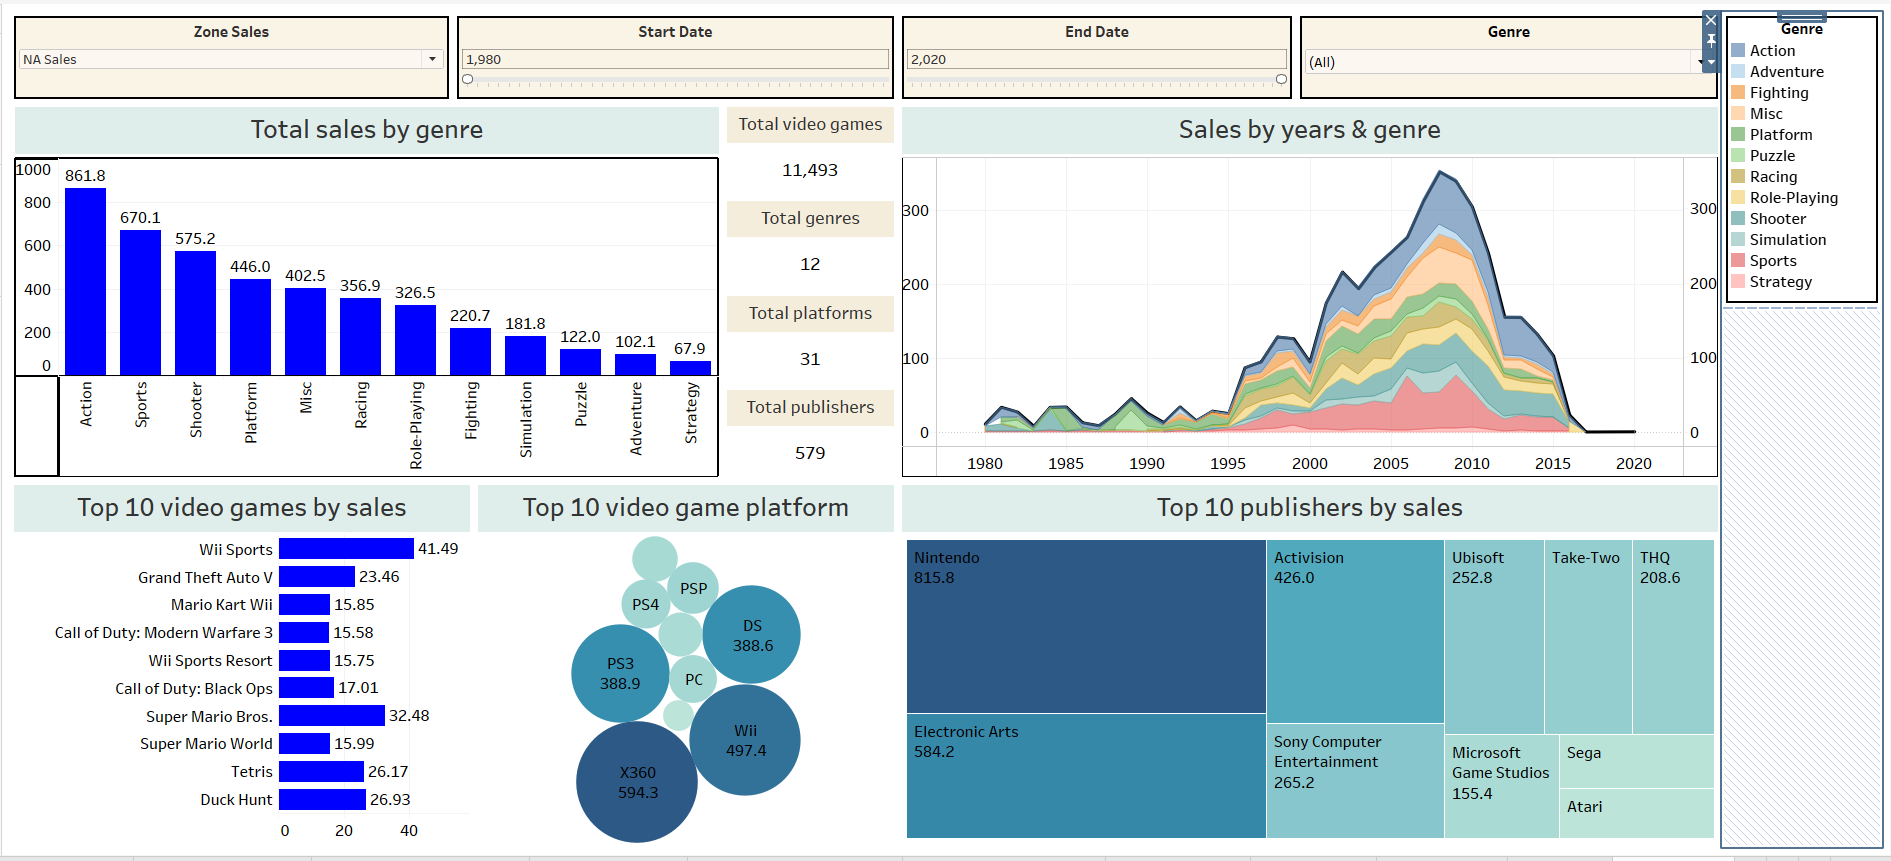

The dashboard page shown, as its layout file describes it:
{"tool":"tableau","page":{"name":"Dashboard 1","canvas":[1000,1000],"units":"permille","ordinal":0},"visuals":[{"type":"parameter","param":"[Parameters].[Parameter 1]","box":[4.2,9.4,234.6,106.9]},{"type":"parameter","param":"[Parameters].[Parameter 2]","box":[238.9,9.4,235.7,106.9]},{"type":"parameter","param":"[Parameters].[Parameter 3]","box":[474.6,9.4,210.8,106.9]},{"type":"filter","title":"Sales by years & genre","param":"[federated.0zwhqo115u1nlq1er0fge0xm58so].[none:Genre:nk]","box":[685.4,9.4,225.6,106.9]},{"type":"legend","title":"Sales by years & genre","param":"[federated.0zwhqo115u1nlq1er0fge0xm58so].[none:Genre:nk]","box":[911,9.4,84.8,346.7]},{"type":"worksheet","title":"Total sales by genre","mark":"Automatic","rows":["Calculation_1118581590532210689"],"cols":["Genre"],"box":[4.2,116.3,377.7,444.2]},{"type":"worksheet","title":"Total video games","mark":"Automatic","box":[381.9,116.3,92.7,111]},{"type":"worksheet","title":"Sales by years & genre","mark":"Automatic","rows":["Calculation_1118581590532210689","Calculation_1118581590532210689"],"cols":["Year"],"box":[474.6,116.3,436.4,444.2]},{"type":"worksheet","title":"Total genres","mark":"Automatic","box":[381.9,227.3,92.7,111]},{"type":"worksheet","title":"Total platforms","mark":"Automatic","box":[381.9,338.4,92.7,111]},{"type":"worksheet","title":"Total publishers","mark":"Automatic","box":[381.9,449.4,92.7,111]},{"type":"worksheet","title":"Top 10 video games by sales","mark":"Automatic","rows":["Name"],"cols":["Calculation_1118581590532210689"],"box":[4.2,560.5,245.8,430.1]},{"type":"worksheet","title":"Top 10 video game platform","mark":"Circle","box":[250,560.5,224.6,430.1]},{"type":"worksheet","title":"Top 10 publishers by sales","mark":"Automatic","box":[474.6,560.5,436.4,430.1]}]}

Visuals, with their boxes on the dashboard's canvas, which has no fixed pixel size, in thousandths of its width and height (x1, y1, x2, y2). These are canvas units, not pixel positions in the 1891x861 screenshot, which may show the page scaled, cropped or inside an application window:
parameter: [4, 9, 239, 116]
parameter: [239, 9, 475, 116]
parameter: [475, 9, 685, 116]
"Sales by years & genre" filter: [685, 9, 911, 116]
"Sales by years & genre" legend: [911, 9, 996, 356]
"Total sales by genre" worksheet: [4, 116, 382, 560]
"Total video games" worksheet: [382, 116, 475, 227]
"Sales by years & genre" worksheet: [475, 116, 911, 560]
"Total genres" worksheet: [382, 227, 475, 338]
"Total platforms" worksheet: [382, 338, 475, 449]
"Total publishers" worksheet: [382, 449, 475, 560]
"Top 10 video games by sales" worksheet: [4, 560, 250, 991]
"Top 10 video game platform" worksheet (Circle marks): [250, 560, 475, 991]
"Top 10 publishers by sales" worksheet: [475, 560, 911, 991]
